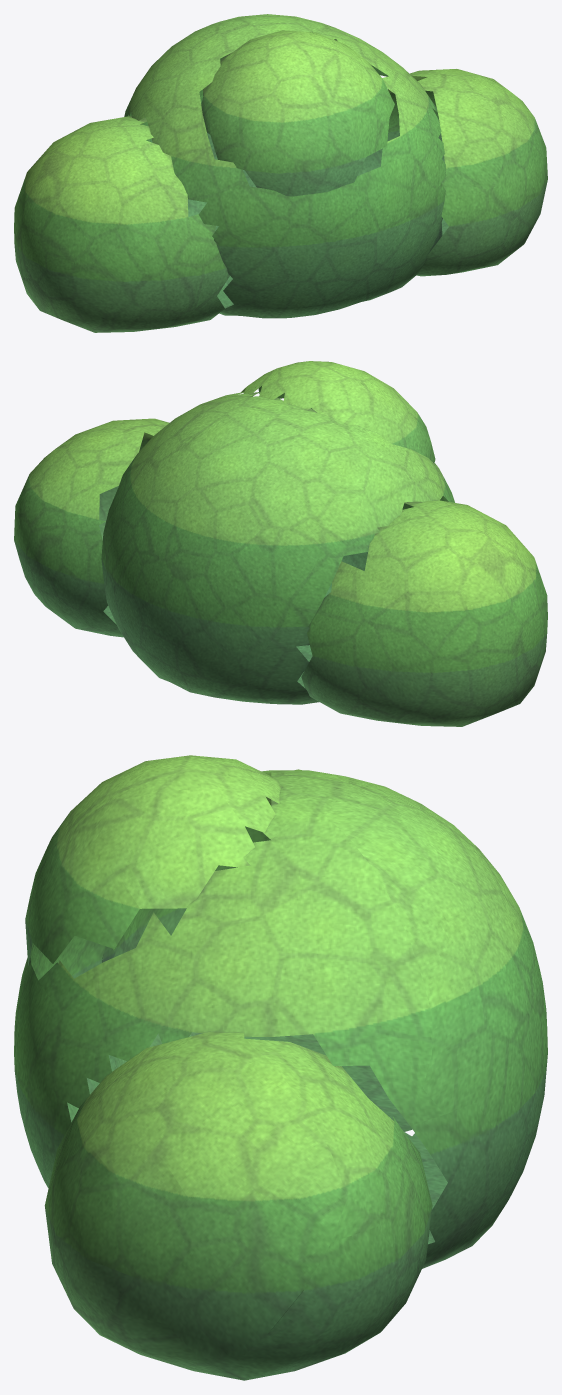
The model's file is WM_Bush_Round.fbx.
The picture shows the model from 3 angles, top to bottom: view 1: azimuth 30°, elevation 25°; view 2: azimuth 150°, elevation 25°; view 3: azimuth 270°, elevation 25°; orthographic projection. The views are drawn at different scales.
Parts seen in each view (by area): view 1: WM_Bush_Round_LOD0; view 2: WM_Bush_Round_LOD0; view 3: WM_Bush_Round_LOD0.
Part boxes in pixels (x1,y1,x2,y2): WM_Bush_Round_LOD0: (14, 14, 547, 332); WM_Bush_Round_LOD0: (14, 361, 547, 726); WM_Bush_Round_LOD0: (14, 755, 547, 1380).
Size of what is drawn, in the model's own units: 1.77 by 0.8601 by 0.9914.
